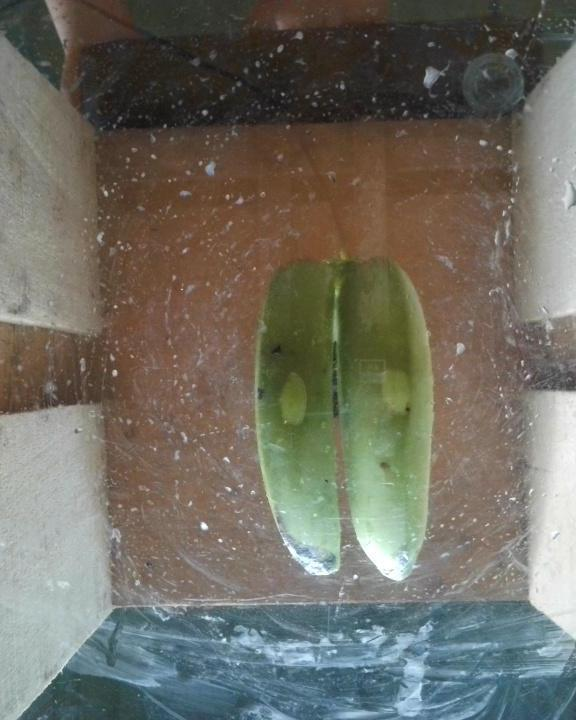CLASS B: (248, 248, 451, 585)
Class A: (281, 512, 336, 576), (251, 377, 277, 407), (263, 338, 292, 363), (374, 452, 399, 478)
